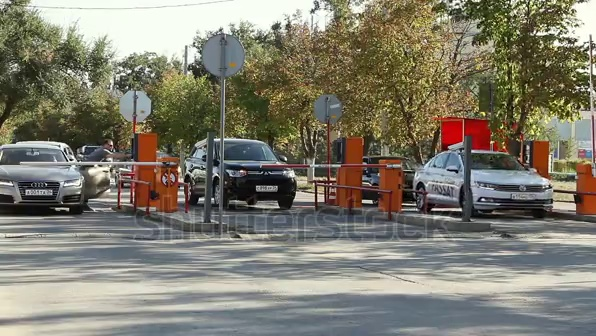licenseplate: (24, 187, 54, 199), (512, 191, 539, 202), (255, 182, 280, 192)
